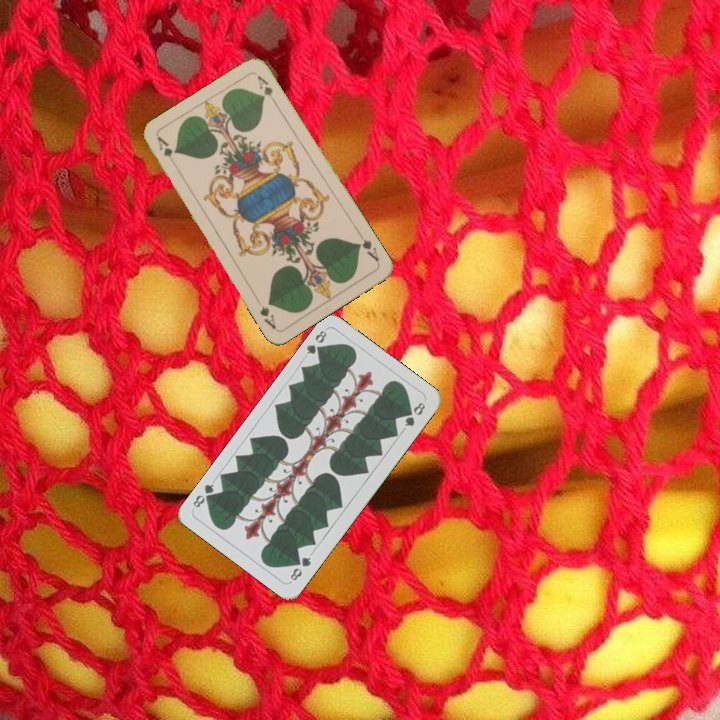G8: (302, 325, 329, 358), (286, 553, 314, 583)
GA: (353, 229, 382, 264), (153, 133, 175, 160)
